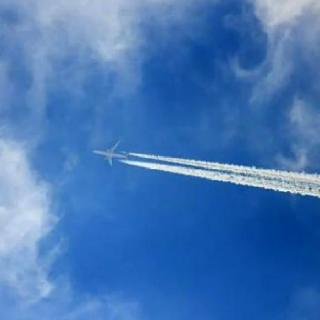Contrails: (0, 1, 320, 264)
